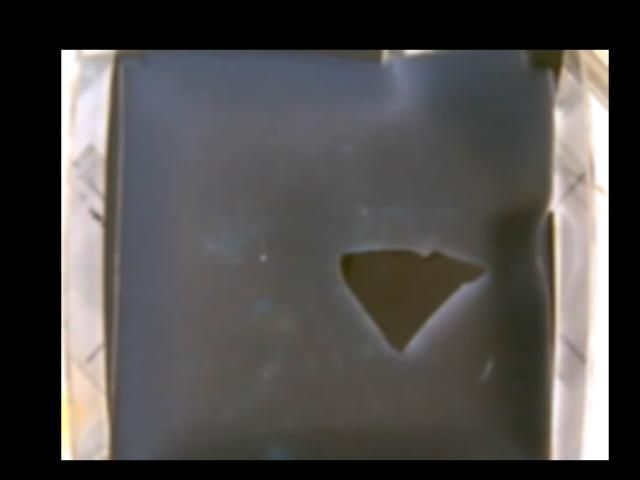China: (339, 243, 487, 353)
